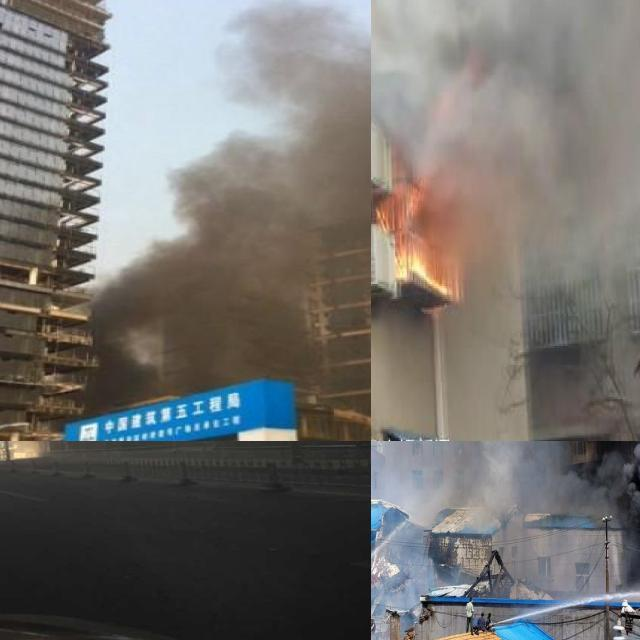fire: (376, 188, 456, 299)
smoke: (371, 0, 640, 303), (371, 441, 640, 587), (165, 242, 308, 373), (213, 0, 369, 113), (92, 242, 205, 390), (164, 135, 295, 241)
